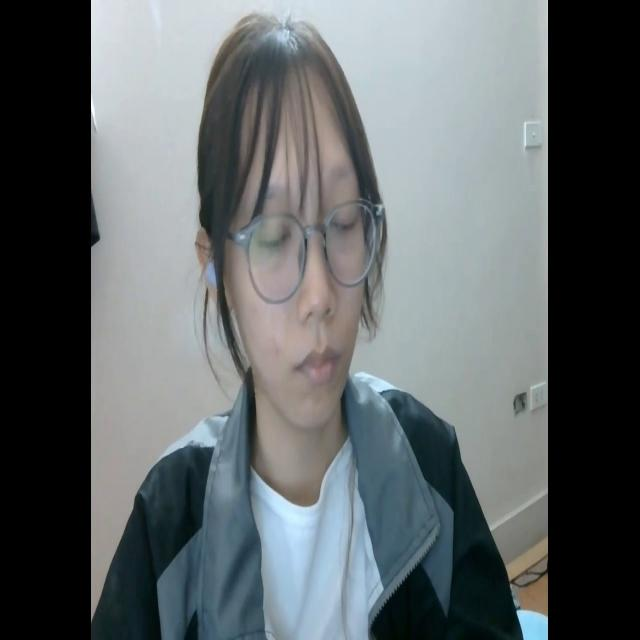student: (98, 10, 521, 640)
